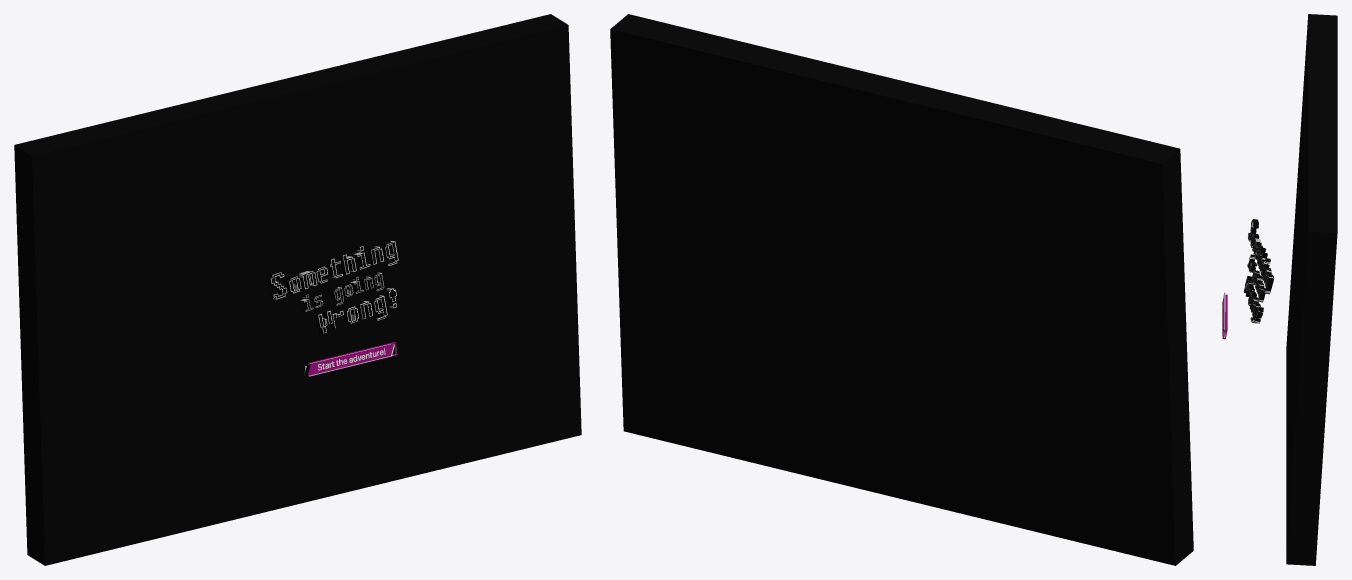
Rendered from title.obj.
3 views of the same model, side by side, from view 1: azimuth 30°, elevation 25°; view 2: azimuth 150°, elevation 25°; view 3: azimuth 270°, elevation 25° (orthographic). The views are drawn at different scales.
Visible parts, largest first — view 1: Plane.001, Curve.021, Plane.002; view 2: Plane.001; view 3: Plane.001, Curve.021, Plane.002.
Boxes of the visible parts, <box> form: Plane.001: <box>14,14,581,565</box>; Curve.021: <box>267,240,398,333</box>; Plane.002: <box>304,342,397,376</box>; Plane.001: <box>610,14,1193,565</box>; Plane.001: <box>1286,14,1337,565</box>; Curve.021: <box>1243,219,1274,323</box>; Plane.002: <box>1222,293,1227,339</box>.
Size of the model in its own units: 16.18 by 11.59 by 3.62.
